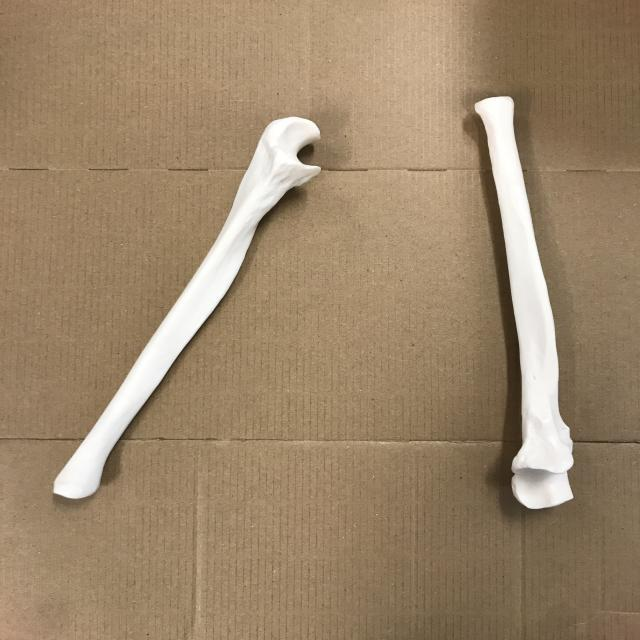bone: (44, 112, 334, 504), (468, 90, 590, 516)
